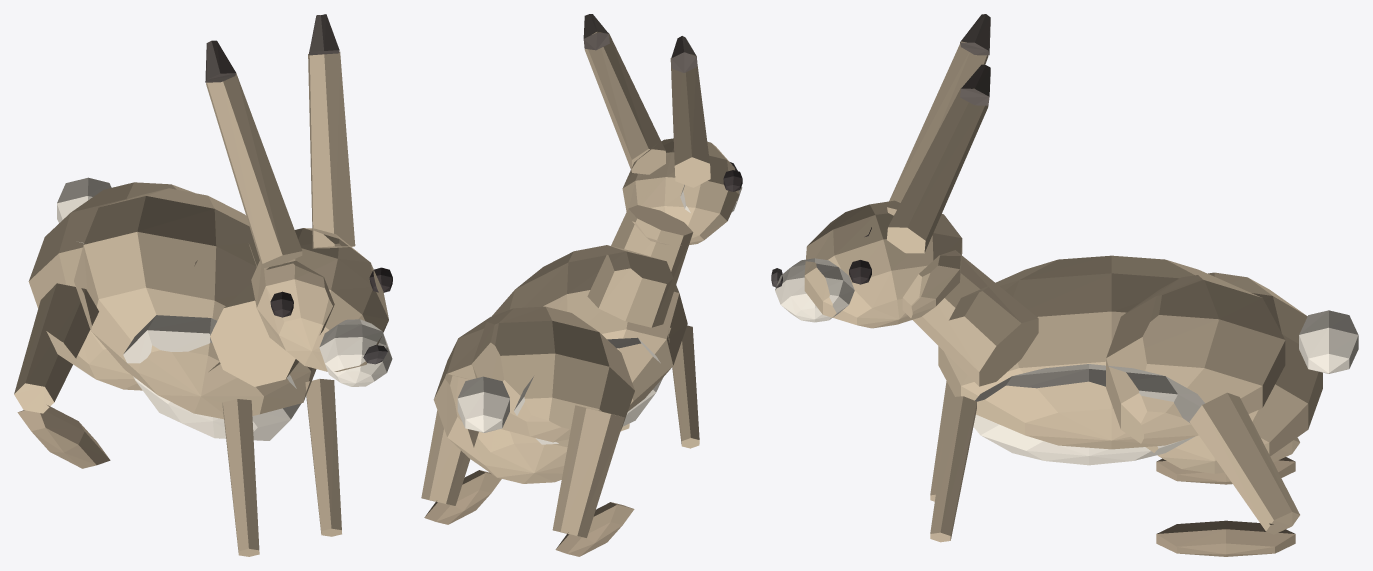
Rendered from hare.glb.
3 renders of one model, left to right at view 1: azimuth 30°, elevation 25°; view 2: azimuth 150°, elevation 25°; view 3: azimuth 270°, elevation 25°, orthographic. The views are drawn at different scales.
Visible parts, largest first — view 1: Body, Head.Skull, Head.Ear, Head.Ear#2, Body.Haunch, Leg.BR, Body.Belly, Head.Neck, Leg.FR, Leg.FL, Head.Muzzle, Leg.BR.Foot (+4 smaller); view 2: Body.Haunch, Body, Head.Neck, Head.Skull, Leg.BR, Head.Ear#2, Head.Ear, Leg.BL, Body.Tail, Leg.FR, Leg.BR.Foot, Leg.BL.Foot (+3 smaller); view 3: Body, Body.Haunch, Head.Skull, Head.Neck, Body.Belly, Leg.BL, Head.Ear#2, Leg.BL.Foot, Leg.FL, Body.Tail, Head.Ear, Head.Muzzle (+4 smaller).
Part boxes in pixels (x1=…): Body: x1=74, y1=188, x2=316, y2=419; Head.Skull: x1=251, y1=228, x2=388, y2=371; Head.Ear: x1=206, y1=73, x2=302, y2=268; Head.Ear#2: x1=308, y1=51, x2=355, y2=248; Body.Haunch: x1=28, y1=182, x2=256, y2=390; Leg.BR: x1=14, y1=283, x2=98, y2=413; Body.Belly: x1=123, y1=315, x2=301, y2=440; Head.Neck: x1=210, y1=260, x2=334, y2=386; Leg.FR: x1=222, y1=399, x2=259, y2=556; Leg.FL: x1=305, y1=379, x2=341, y2=536; Head.Muzzle: x1=319, y1=319, x2=392, y2=386; Leg.BR.Foot: x1=17, y1=405, x2=110, y2=468; Body.Haunch: x1=433, y1=306, x2=634, y2=483; Body: x1=472, y1=245, x2=687, y2=442; Head.Neck: x1=587, y1=205, x2=693, y2=327; Head.Skull: x1=622, y1=138, x2=739, y2=245; Leg.BR: x1=552, y1=405, x2=624, y2=537; Head.Ear#2: x1=584, y1=31, x2=665, y2=174; Head.Ear: x1=670, y1=54, x2=710, y2=187; Leg.BL: x1=421, y1=374, x2=478, y2=505; Body.Tail: x1=457, y1=376, x2=509, y2=432; Leg.FR: x1=668, y1=325, x2=699, y2=448; Leg.BR.Foot: x1=555, y1=502, x2=634, y2=556; Leg.BL.Foot: x1=424, y1=470, x2=501, y2=524; Body: x1=938, y1=255, x2=1285, y2=449; Body.Haunch: x1=1106, y1=272, x2=1322, y2=473; Head.Skull: x1=804, y1=200, x2=962, y2=328; Head.Neck: x1=902, y1=250, x2=1038, y2=386; Body.Belly: x1=973, y1=364, x2=1204, y2=465; Leg.BL: x1=1189, y1=392, x2=1299, y2=534; Head.Ear#2: x1=887, y1=87, x2=988, y2=253; Leg.BL.Foot: x1=1156, y1=520, x2=1295, y2=556; Leg.FL: x1=930, y1=396, x2=976, y2=542; Body.Tail: x1=1299, y1=310, x2=1358, y2=373; Head.Ear: x1=887, y1=41, x2=988, y2=215; Head.Muzzle: x1=775, y1=258, x2=854, y2=322.
Bounding box in the file's own units: 0.2 × 0.463 × 0.514.
